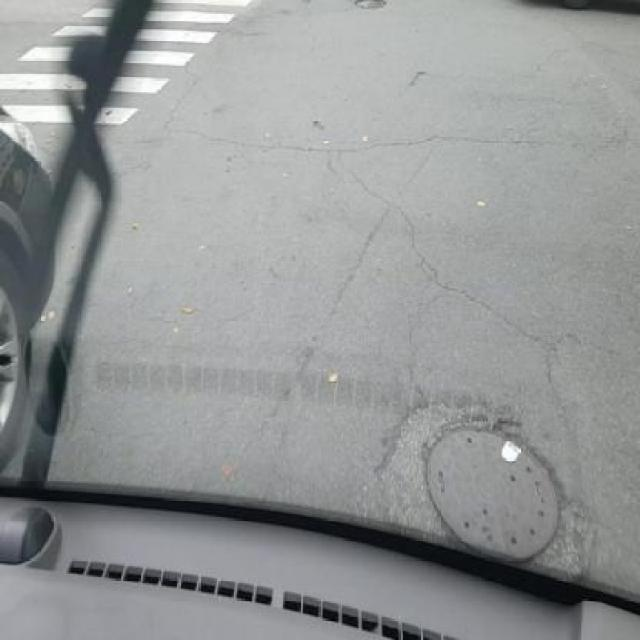Manhole: (420, 412, 566, 563)
Pothole: (399, 64, 431, 89), (348, 0, 389, 11)
